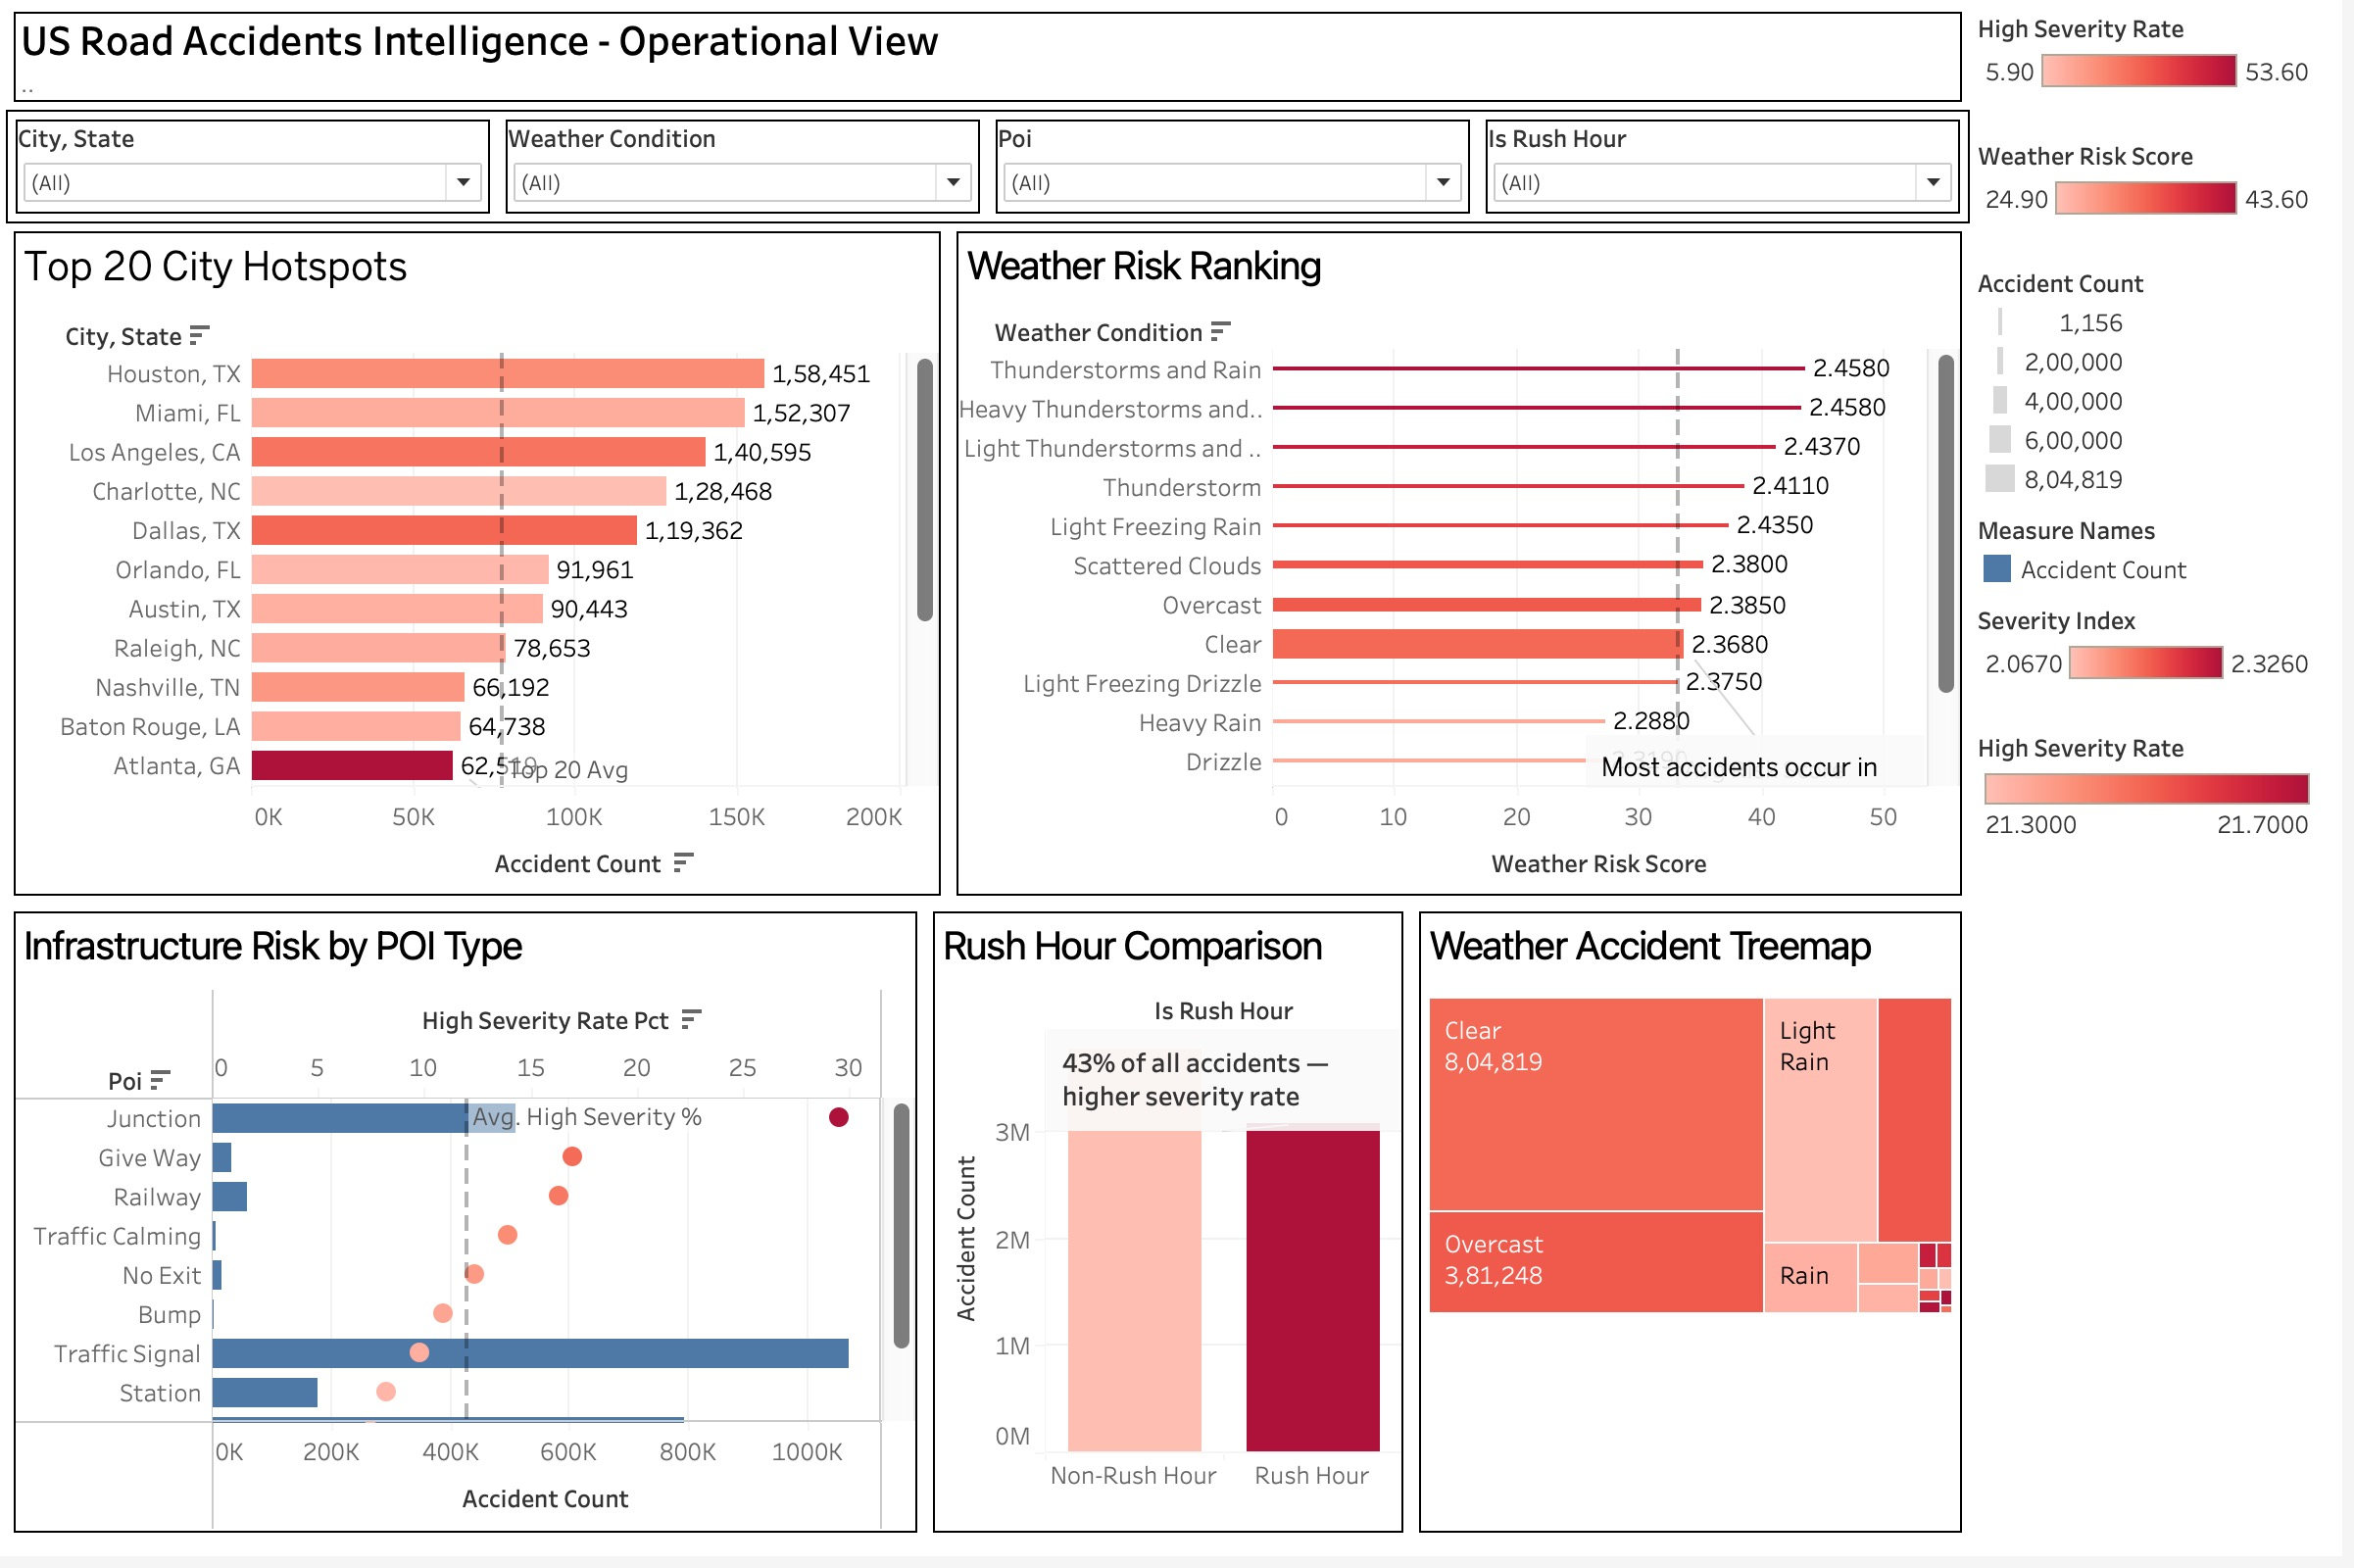

What the dashboard file says about the page in this screenshot:
{"tool":"tableau","page":{"name":"Dashboard 2","canvas":[1000,1000],"units":"permille","ordinal":1},"visuals":[{"type":"text","box":[6.4,9.3,987.2,57.2]},{"type":"filter","title":"Top 15 City Hotspots","param":"[federated.0jneq270983iii1dv6sha1ytug0k].[none:Calculation_4370828745777157:nk]","box":[7.2,67.7,247,65.3]},{"type":"filter","title":"Weather Risk Ranking","param":"[federated.1cgut1b17rxbs615b63tz1krf9w0].[none:weather_condition:nk]","box":[254.2,67.7,246.2,65.3]},{"type":"filter","title":"Infrastructure Risk by POI Type","param":"[federated.0glt0ar1gb2vox1bgq0sl1v5ow8e].[none:poi:nk]","box":[500.4,67.7,246.2,65.3]},{"type":"filter","title":"Rush Hour Comparison","param":"[federated.0b3kiio1dvg0961611c3r0l8f472].[none:is_rush_hour:nk]","box":[746.6,67.7,246.2,65.3]},{"type":"legend","title":"Top 15 City Hotspots","param":"[federated.0jneq270983iii1dv6sha1ytug0k].[sum:high_severity_rate:qk]","box":[6.4,134.2,494,59.2]},{"type":"legend","title":"Infrastructure Risk by POI Type","param":"[federated.0glt0ar1gb2vox1bgq0sl1v5ow8e].[:Measure Names]","box":[500.4,134.2,147.1,59.2]},{"type":"legend","title":"Infrastructure Risk by POI Type","param":"[federated.0glt0ar1gb2vox1bgq0sl1v5ow8e].[sum:severity_index:qk]","box":[647.5,134.2,346.2,59.2]},{"type":"worksheet","title":"Top 15 City Hotspots","mark":"Automatic","rows":["Calculation_4370828745777157"],"cols":["accident_count"],"box":[6.4,193.4,493.6,502]},{"type":"worksheet","title":"Infrastructure Risk by POI Type","mark":"Automatic","rows":["poi"],"cols":["accident_count","high_severity_rate_pct"],"box":[500,193.4,493.6,502]},{"type":"worksheet","title":"Weather Risk Ranking","mark":"Pie","box":[6.4,695.5,326.9,295.2]},{"type":"legend","title":"Weather Risk Ranking","param":"[federated.1cgut1b17rxbs615b63tz1krf9w0].[none:weather_condition:nk]","box":[333.3,695.5,219,257.9]},{"type":"worksheet","title":"Rush Hour Comparison","mark":"Automatic","rows":["accident_count"],"cols":["is_rush_hour"],"box":[552.3,695.5,441.3,295.2]},{"type":"legend","title":"Rush Hour Comparison","param":"[federated.0b3kiio1dvg0961611c3r0l8f472].[sum:high_severity_rate:qk]","box":[854.5,702.5,133.5,73.5]},{"type":"legend","title":"Weather Risk Ranking","param":"[federated.1cgut1b17rxbs615b63tz1krf9w0].[sum:severity_index:qk]","box":[333.3,953.3,219,37.3]}]}

Visuals, with their boxes on the dashboard's canvas, which has no fixed pixel size, in thousandths of its width and height (x1, y1, x2, y2). These are canvas units, not pixel positions in the 2354x1568 screenshot, which may show the page scaled, cropped or inside an application window:
text: 6, 9, 994, 66
"Top 15 City Hotspots" filter: 7, 68, 254, 133
"Weather Risk Ranking" filter: 254, 68, 500, 133
"Infrastructure Risk by POI Type" filter: 500, 68, 747, 133
"Rush Hour Comparison" filter: 747, 68, 993, 133
"Top 15 City Hotspots" legend: 6, 134, 500, 193
"Infrastructure Risk by POI Type" legend: 500, 134, 648, 193
"Infrastructure Risk by POI Type" legend: 648, 134, 994, 193
"Top 15 City Hotspots" worksheet: 6, 193, 500, 695
"Infrastructure Risk by POI Type" worksheet: 500, 193, 994, 695
"Weather Risk Ranking" worksheet (Pie marks): 6, 696, 333, 991
"Weather Risk Ranking" legend: 333, 696, 552, 953
"Rush Hour Comparison" worksheet: 552, 696, 994, 991
"Rush Hour Comparison" legend: 854, 702, 988, 776
"Weather Risk Ranking" legend: 333, 953, 552, 991
